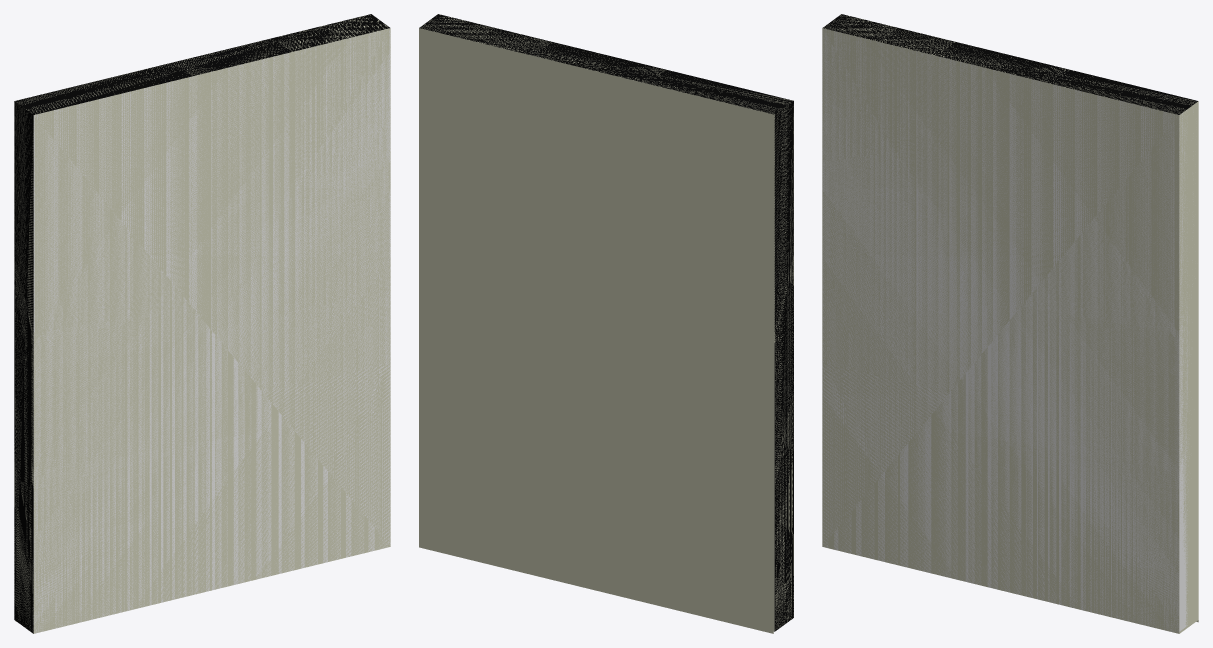
3 renders of one model, left to right at view 1: azimuth 30°, elevation 25°; view 2: azimuth 150°, elevation 25°; view 3: azimuth 330°, elevation 25°, orthographic.
Visible parts, largest first — view 1: dvd; view 2: dvd; view 3: dvd.
Boxes of the visible parts, x1,y1,x2,y2 form: dvd: (14, 14, 390, 633); dvd: (419, 14, 793, 633); dvd: (822, 14, 1198, 633).
Size of the model in its own units: 96.46 by 135 by 8.98.
